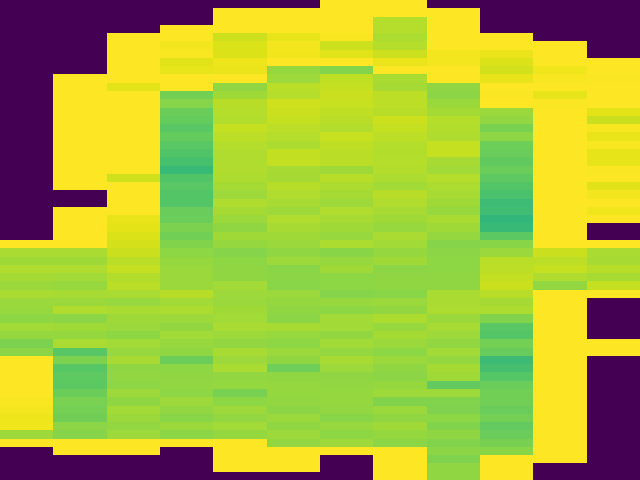car_0027: (2, 2, 640, 480)
